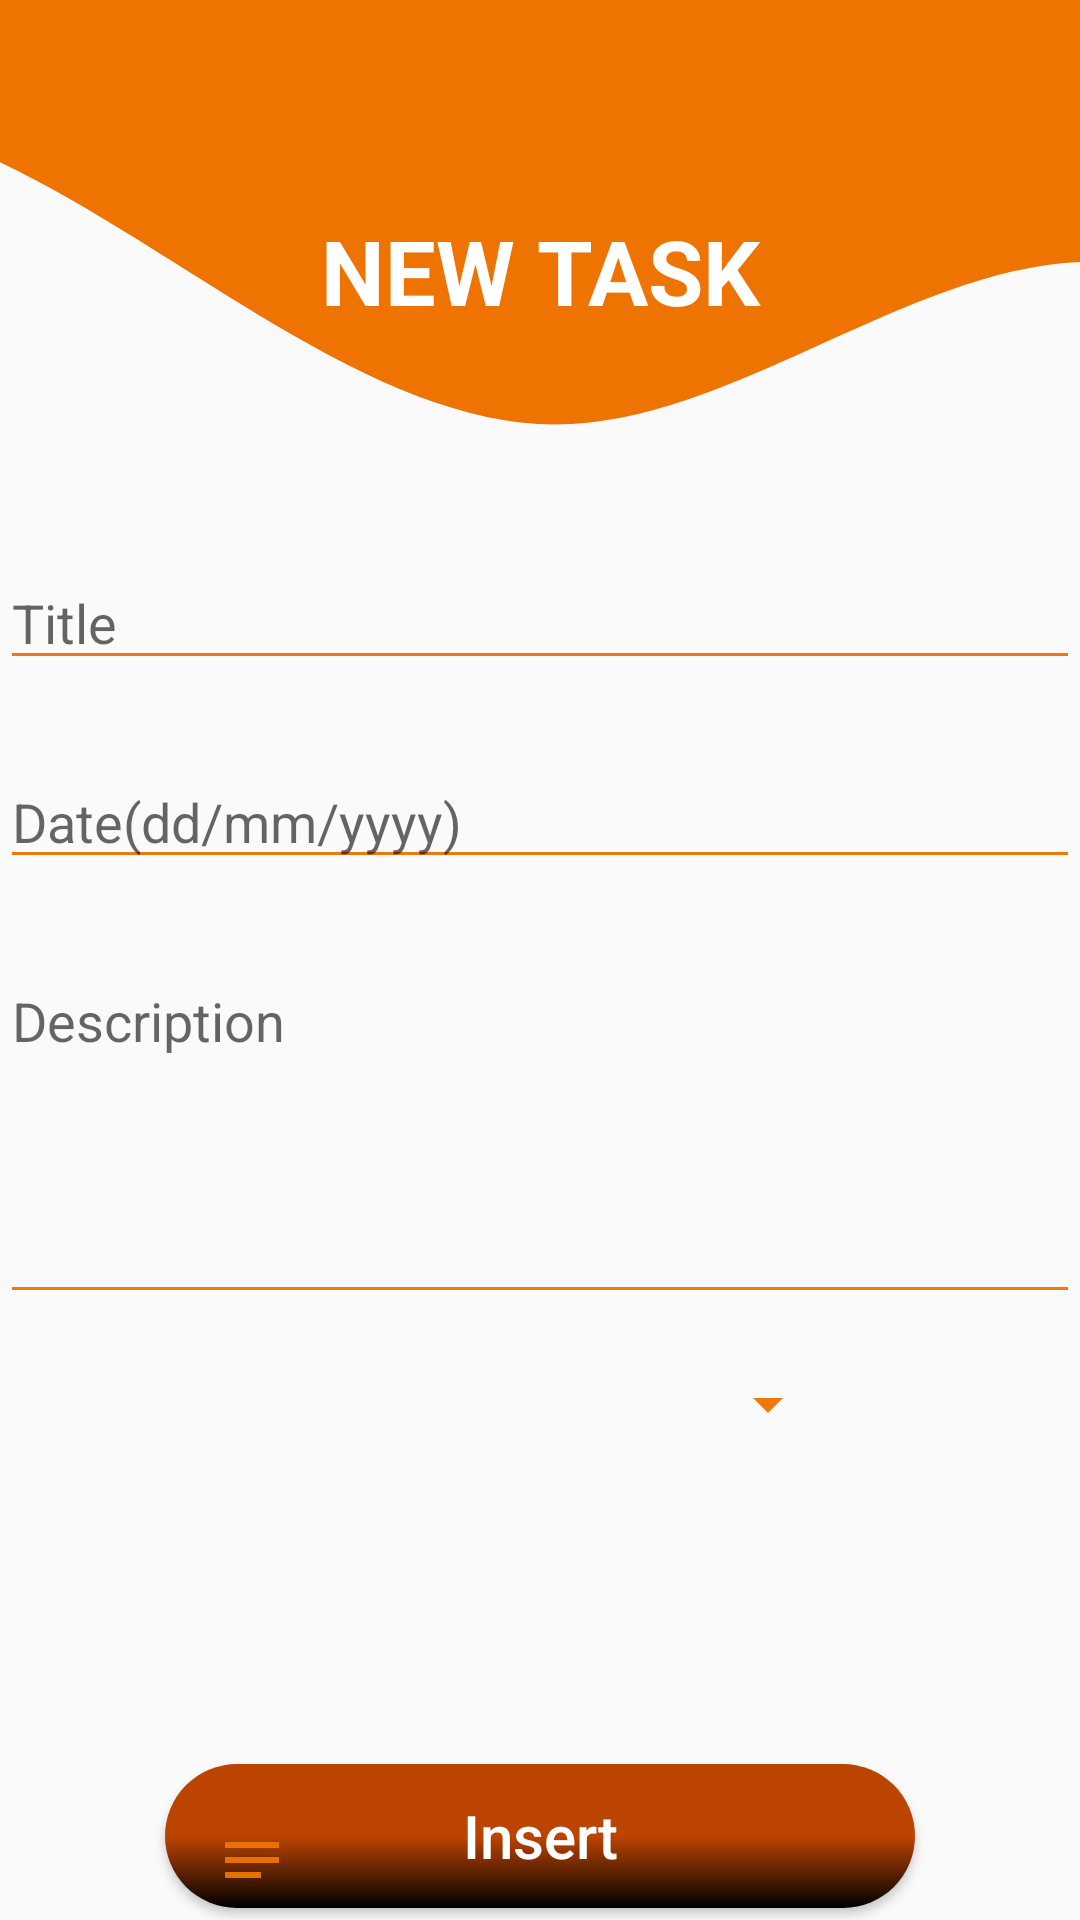

Point at icon controls on the screen. Image size 1080×1920, points as point (x, y).
notes: point (252, 1860)
